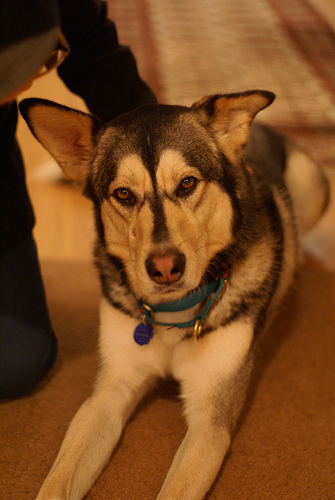dog: (16, 87, 330, 498)
